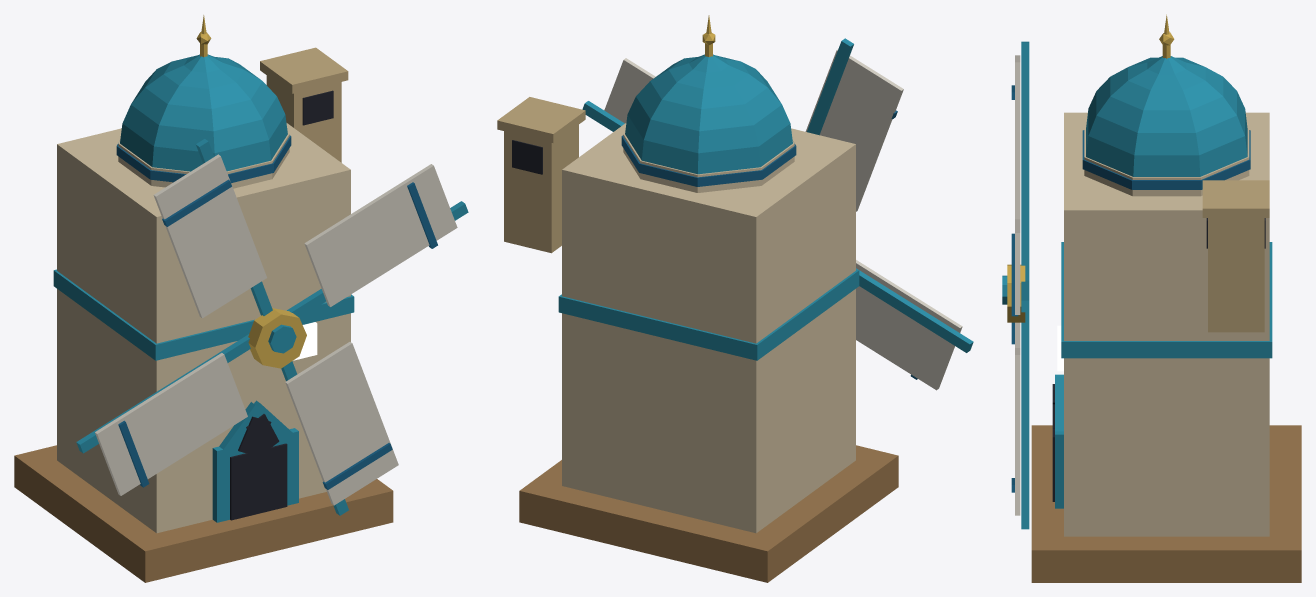
Rendered from mill_t2.glb.
3 renders of one model, left to right at view 1: azimuth 30°, elevation 25°; view 2: azimuth 150°, elevation 25°; view 3: azimuth 270°, elevation 25°, orthographic. The views are drawn at different scales.
Visible parts, largest first — view 1: body, part_rotor; view 2: body, part_rotor; view 3: body, part_rotor.
Boxes of the visible parts, x1=… form: body: x1=14, y1=15, x2=393, y2=582; part_rotor: x1=76, y1=139, x2=468, y2=515; body: x1=497, y1=15, x2=898, y2=582; part_rotor: x1=582, y1=38, x2=973, y2=390; body: x1=1031, y1=14, x2=1301, y2=582; part_rotor: x1=1002, y1=41, x2=1029, y2=529.
Size of the model in its own units: 1.8 by 2.17 by 1.16.
